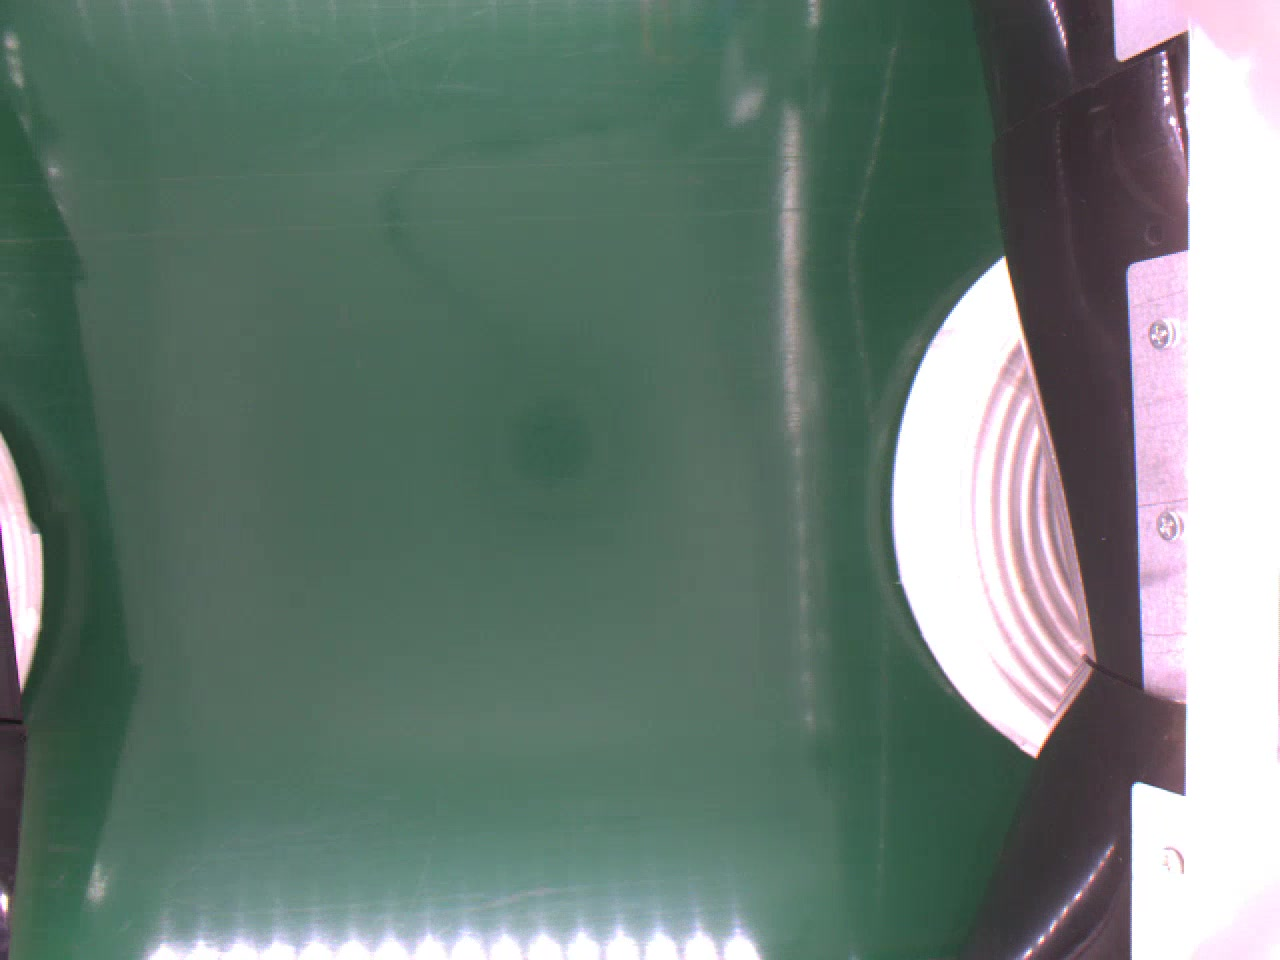white: (890, 242, 1085, 755)
